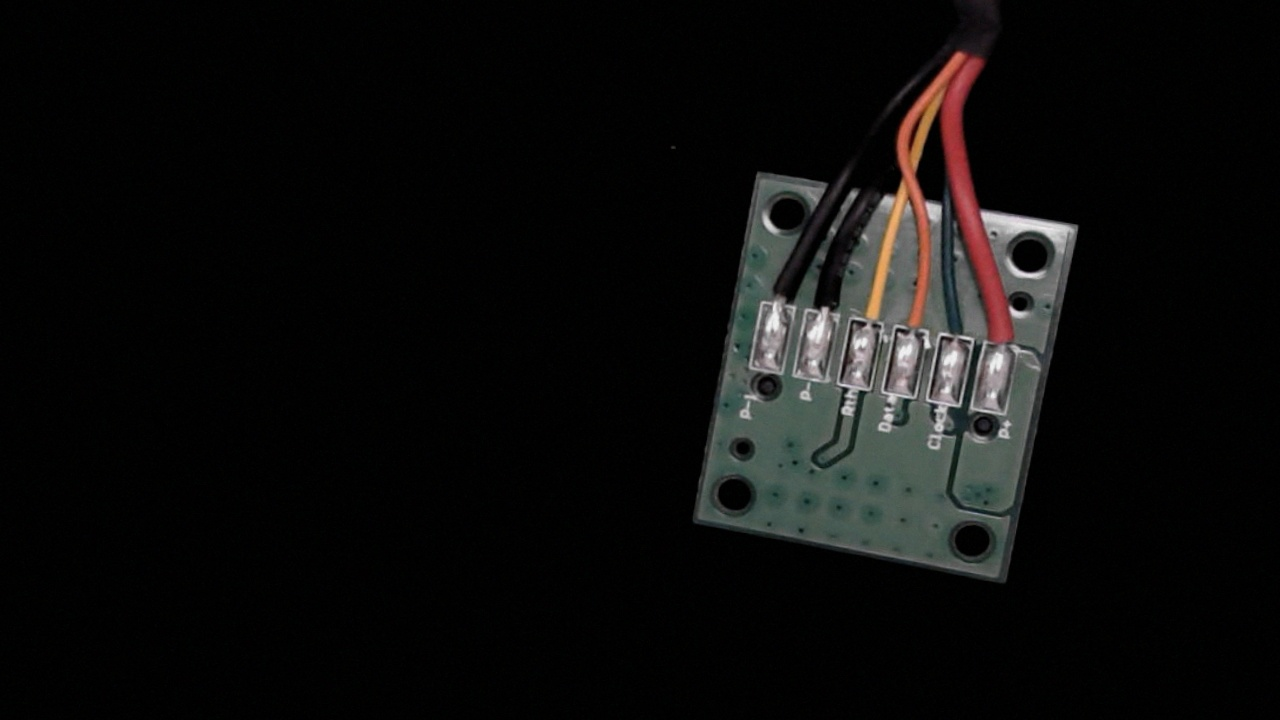Black: (799, 253, 851, 340)
Black1: (755, 249, 806, 329)
Green: (930, 286, 982, 370)
Orange: (890, 269, 941, 354)
Red: (974, 290, 1027, 373)
Yellow: (843, 257, 896, 345)
